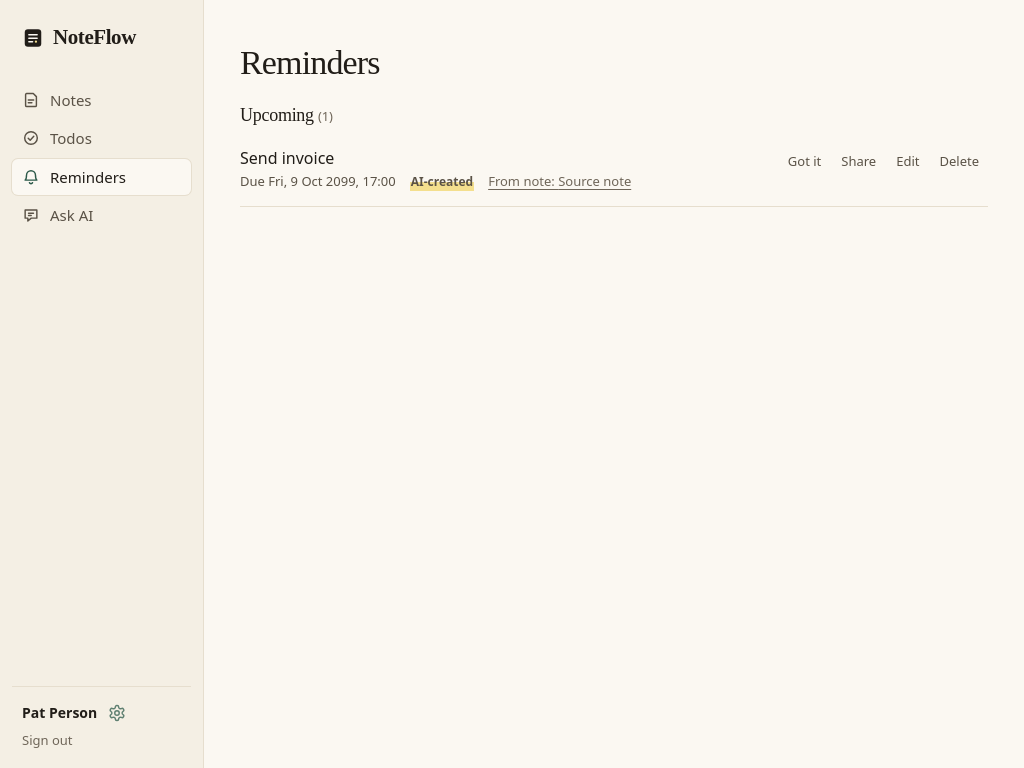
it: acknowledging › shows an error and keeps the old state when acknowledging fails
Click the button with aria-label "acknowledge: send invoice" at (805,161), box [779, 147, 830, 175]
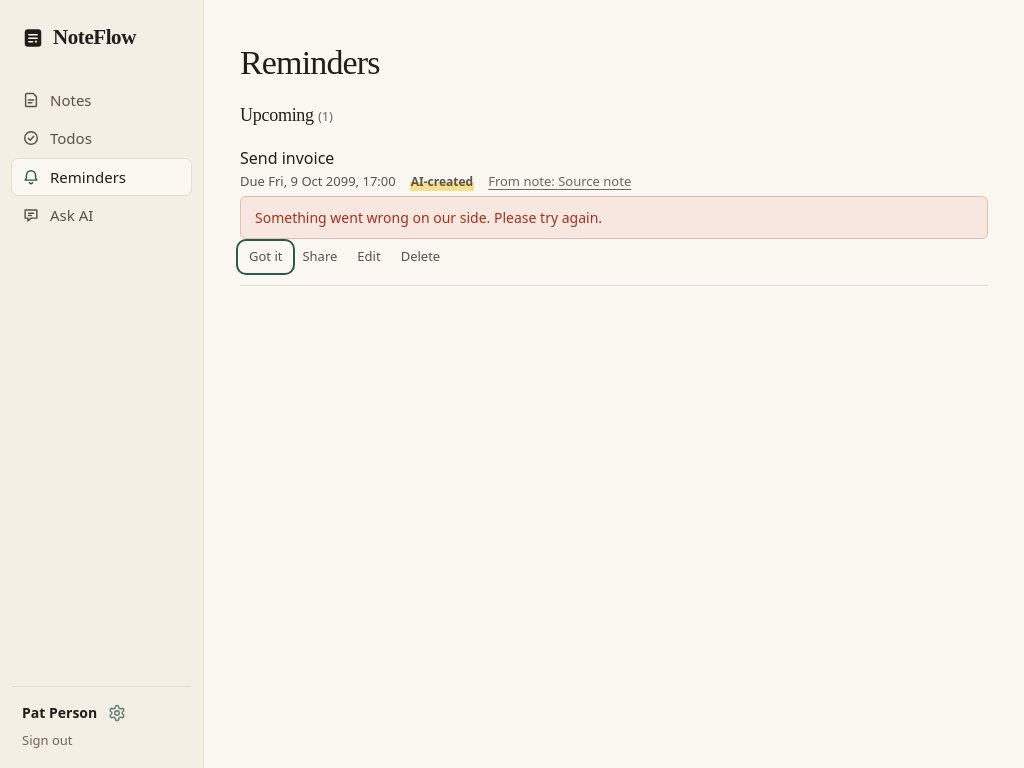
expect the message shows "Something went wrong": met, box [255, 208, 602, 227]
